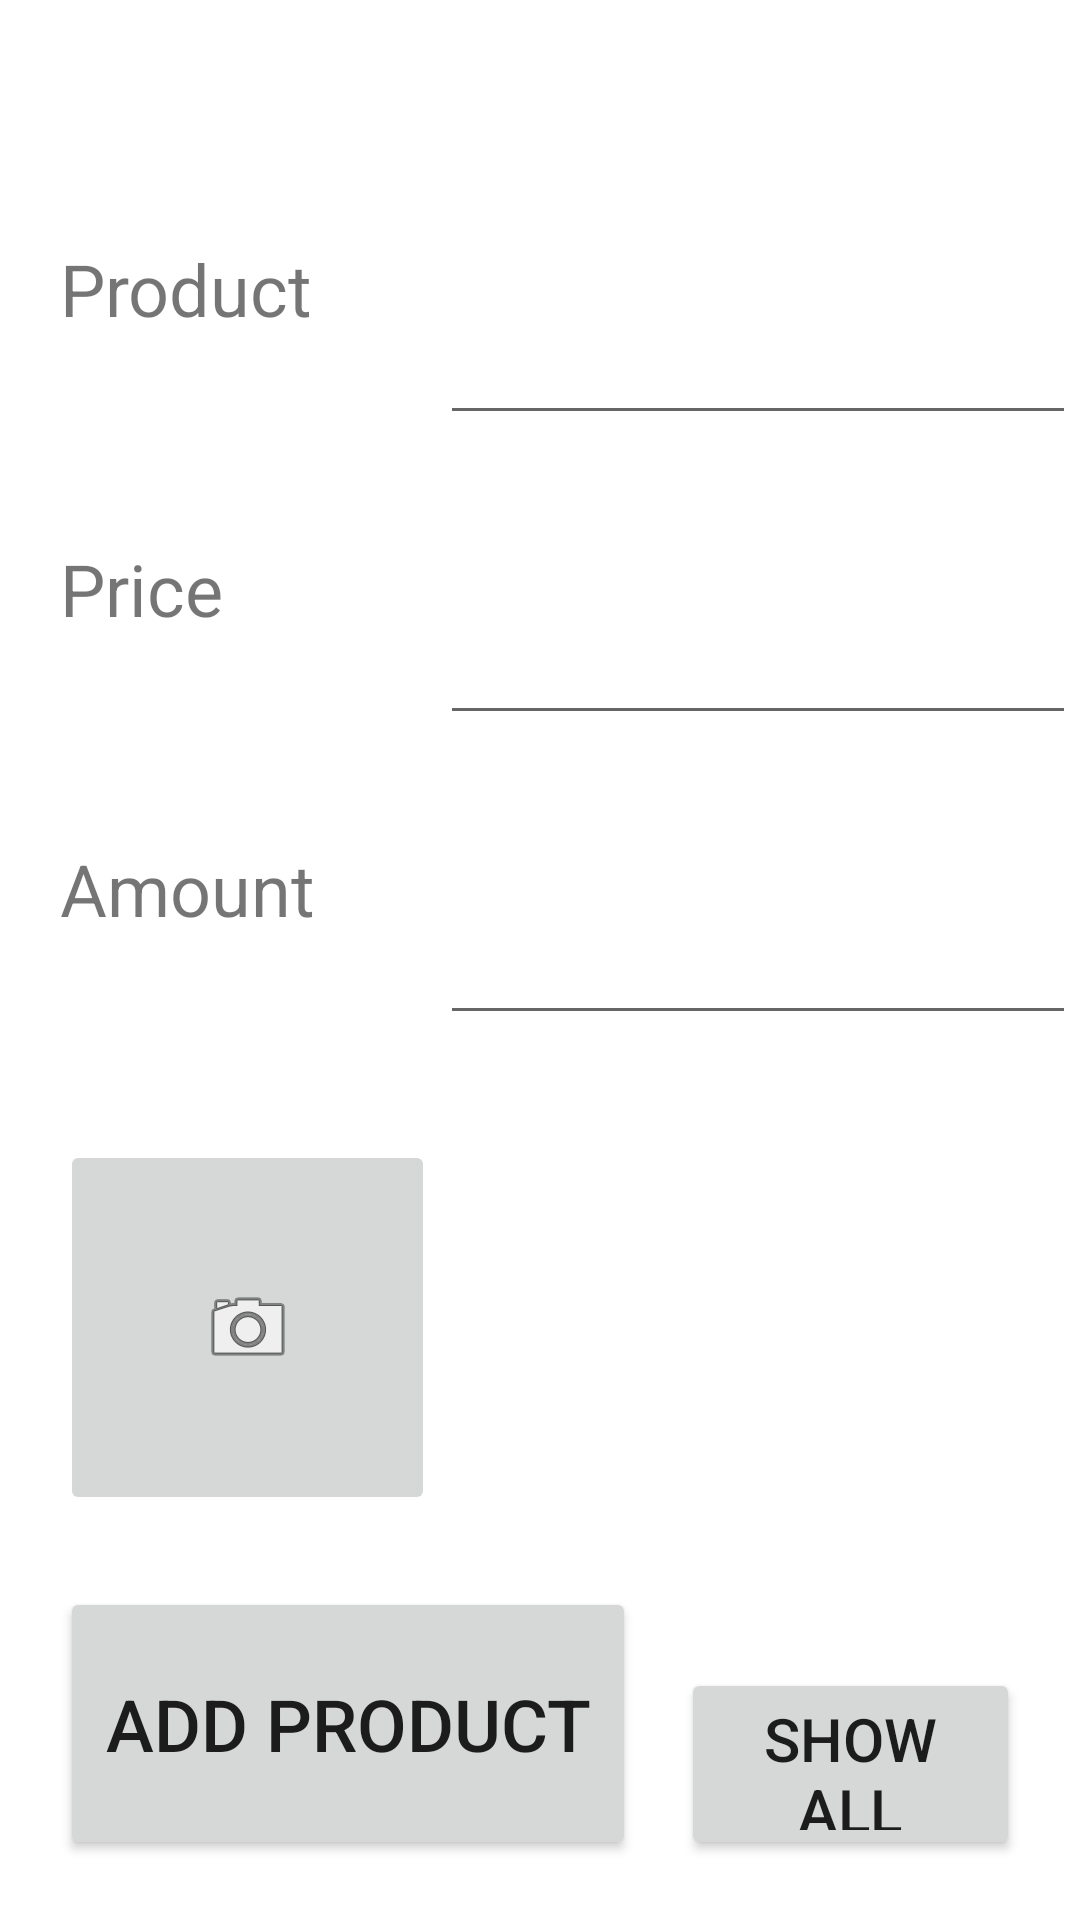

Where to tap for icons on this 1080w x 1920h app screen, as (x,y):
camera: (247,1327)
